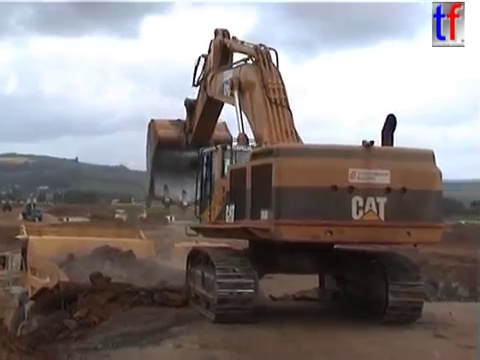excavator: (142, 26, 447, 327)
truck: (1, 222, 218, 353), (155, 238, 269, 302), (136, 206, 176, 225), (86, 205, 127, 223), (1, 199, 12, 212)
